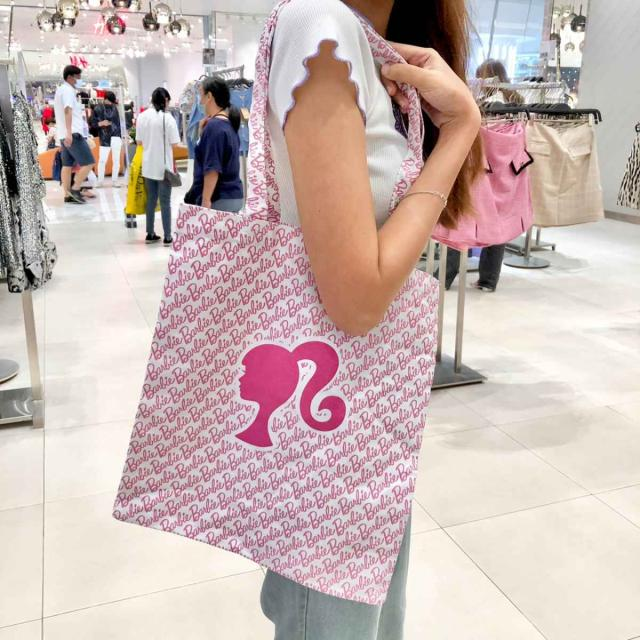Handbag: (112, 196, 460, 614)
